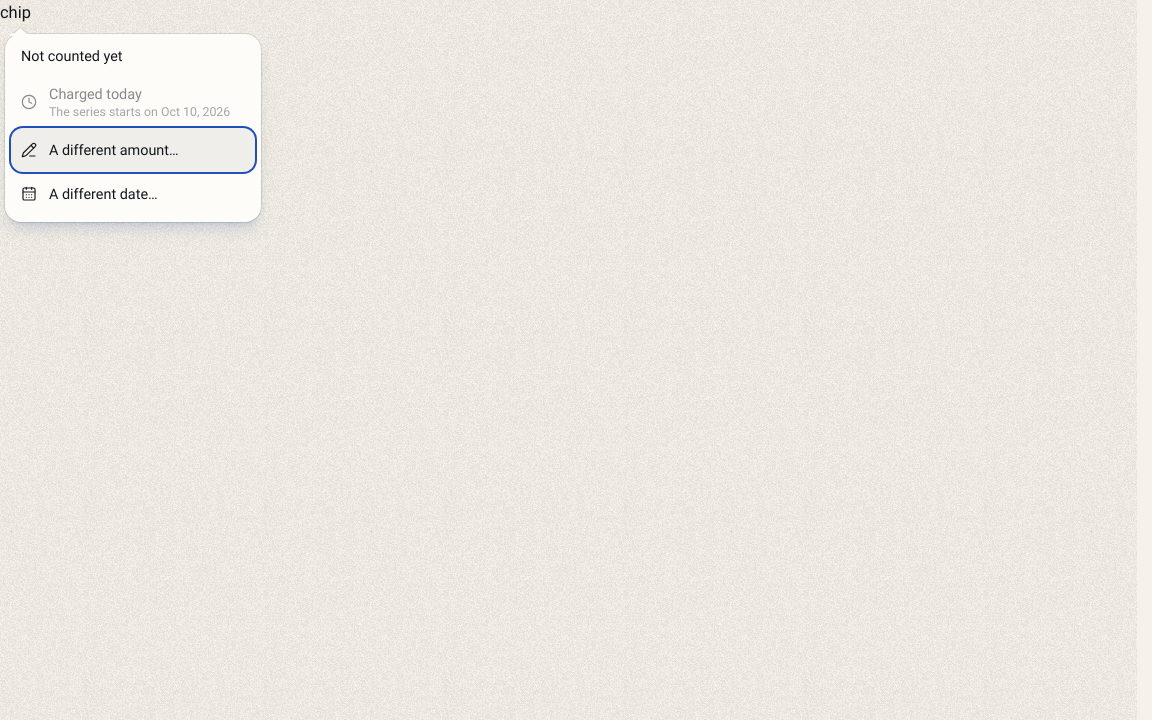
Test: ProjectedPopout › keeps a series from moving to before it starts in the calendar too
The width and height of the screenshot is (1152, 720).
What coordinates should you click on to do the following:
click the button "A different date…"
I would click on:
 (133, 194)
Its box is [11,172,255,216].
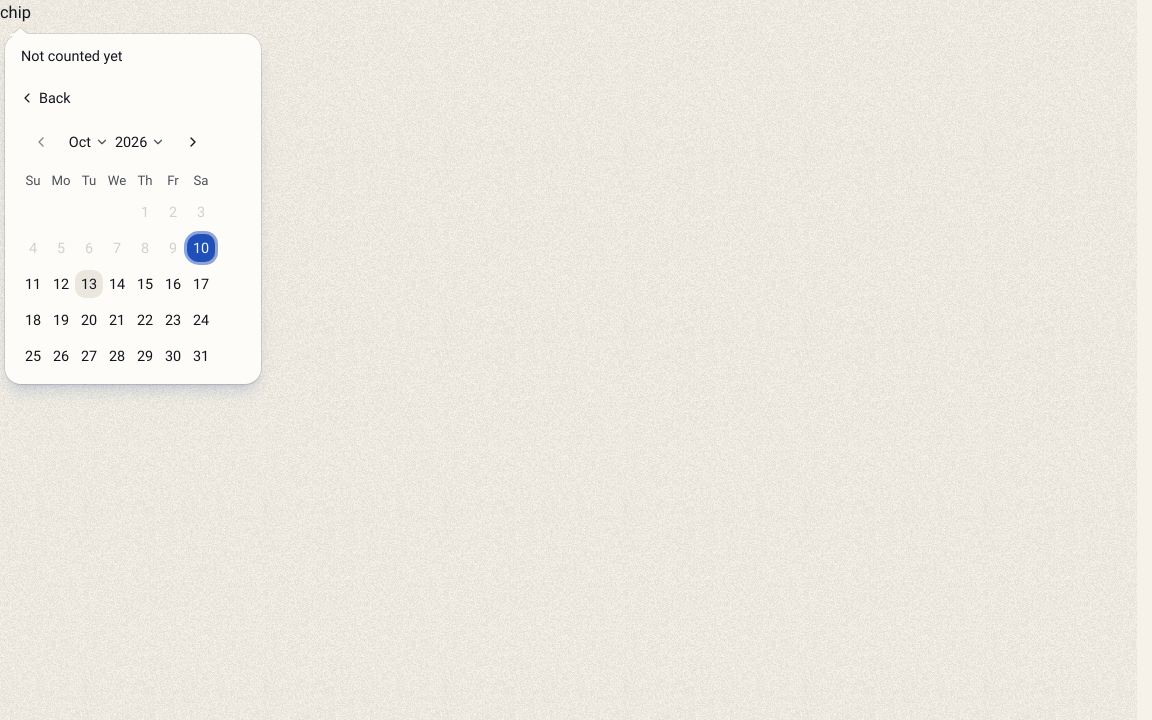
Expected: the button named "October 10" is enabled, [187,234,215,262]
Now the button named "October 9" is disabled, box [159,234,187,262]
